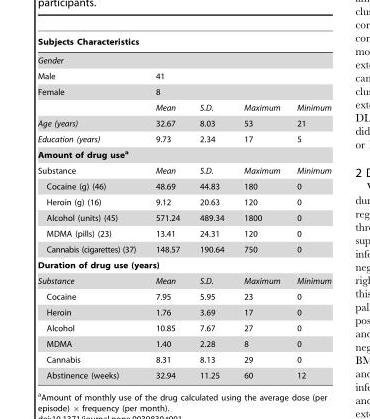table: (37, 37, 330, 379)
table column: (37, 37, 145, 379), (233, 37, 287, 379), (145, 37, 189, 379), (189, 37, 233, 379), (287, 37, 330, 379)
table column header: (37, 37, 330, 50)
table projected row header: (37, 50, 330, 68), (37, 146, 330, 162), (37, 257, 330, 272)
table row: (37, 50, 330, 68), (37, 83, 330, 99), (37, 99, 330, 115), (37, 115, 330, 131), (37, 146, 330, 162), (37, 162, 330, 178), (37, 178, 330, 194), (37, 209, 330, 225), (37, 225, 330, 241), (37, 241, 330, 257), (37, 272, 330, 288), (37, 288, 330, 304), (37, 304, 330, 320), (37, 335, 330, 351), (37, 351, 330, 367), (37, 68, 330, 83), (37, 131, 330, 146), (37, 194, 330, 209), (37, 257, 330, 272), (37, 320, 330, 335), (37, 37, 330, 50), (37, 367, 330, 379)
table spanning cell: (37, 37, 330, 50), (37, 83, 145, 115), (145, 83, 330, 99), (145, 68, 330, 83)
